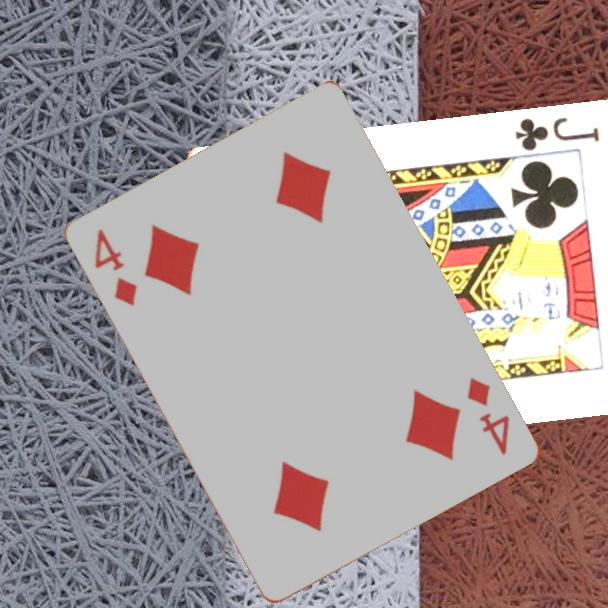c11: (511, 115, 602, 154)
d04: (464, 374, 514, 459), (91, 225, 141, 309)
